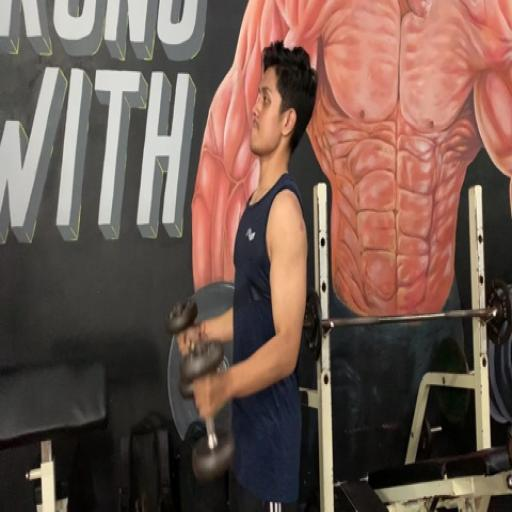exercise: (174, 38, 321, 510)
